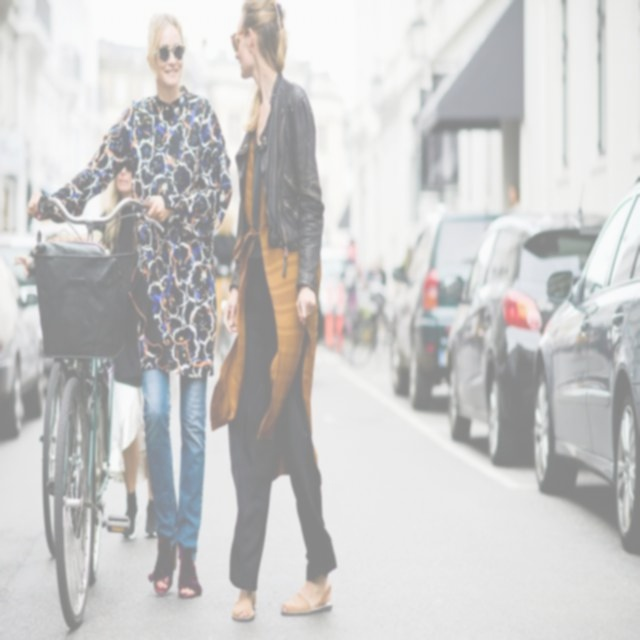pessoa: (24, 1, 235, 605), (205, 0, 342, 630), (11, 151, 160, 544), (336, 226, 398, 344), (501, 167, 522, 216)
